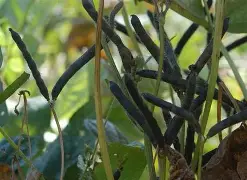crops: (1, 0, 245, 177)
